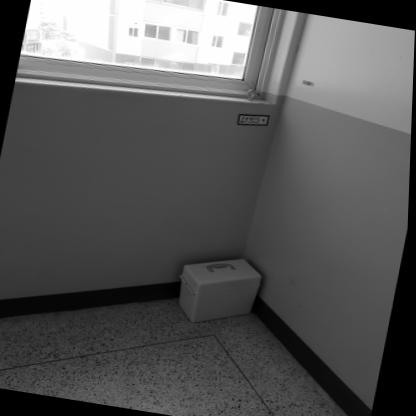DDL: (173, 250, 267, 334)
